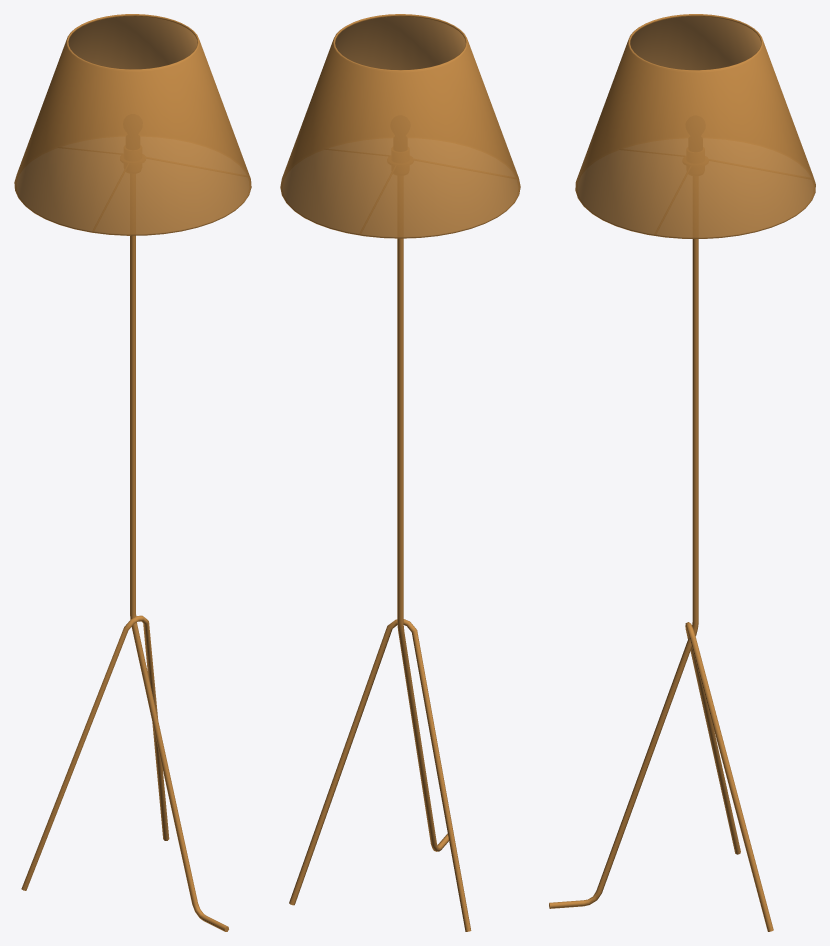
Rendered from lamp03.fbx.
The picture shows the model from 3 angles, left to right: view 1: azimuth 30°, elevation 25°; view 2: azimuth 150°, elevation 25°; view 3: azimuth 270°, elevation 25°; orthographic projection.
Parts seen in each view (by area): view 1: lamp03; view 2: lamp03; view 3: lamp03.
Boxes of the visible parts, x1,y1,x2,y2 form: lamp03: [14, 14, 251, 931]; lamp03: [280, 14, 520, 931]; lamp03: [549, 14, 815, 931].
Size of the model in its own units: 639 by 2508 by 709.
